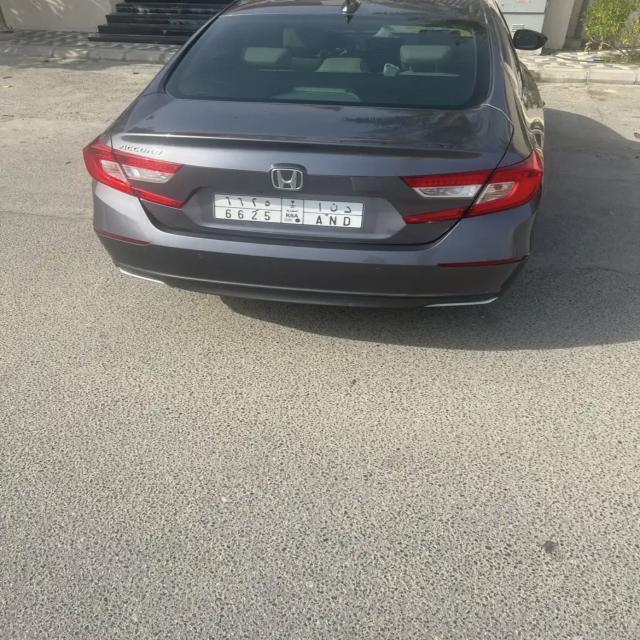license_plate: (212, 192, 364, 232)
